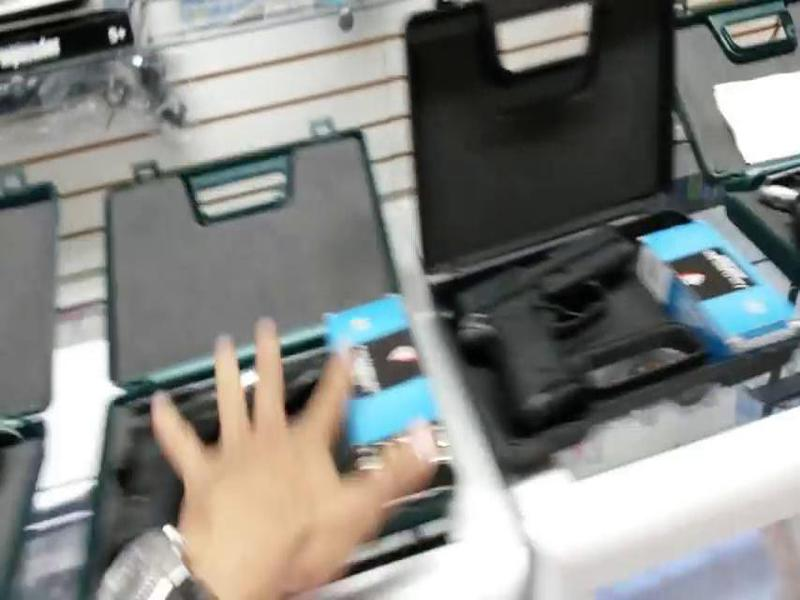Pistola: (439, 206, 724, 450)
